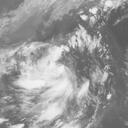cyclone: (25, 49, 76, 98)
